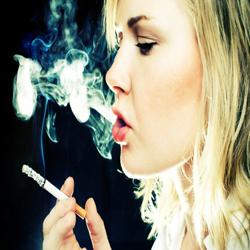smoking: (20, 162, 113, 250)
